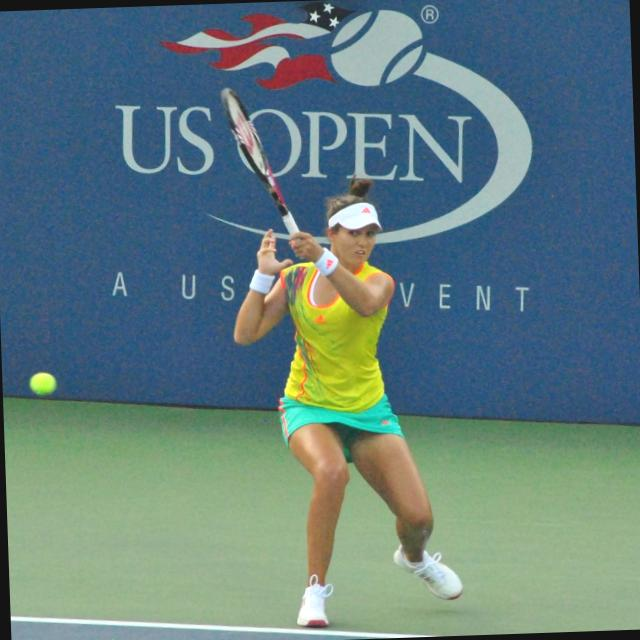Tennis Ball: (28, 370, 56, 396), (30, 372, 54, 398)
